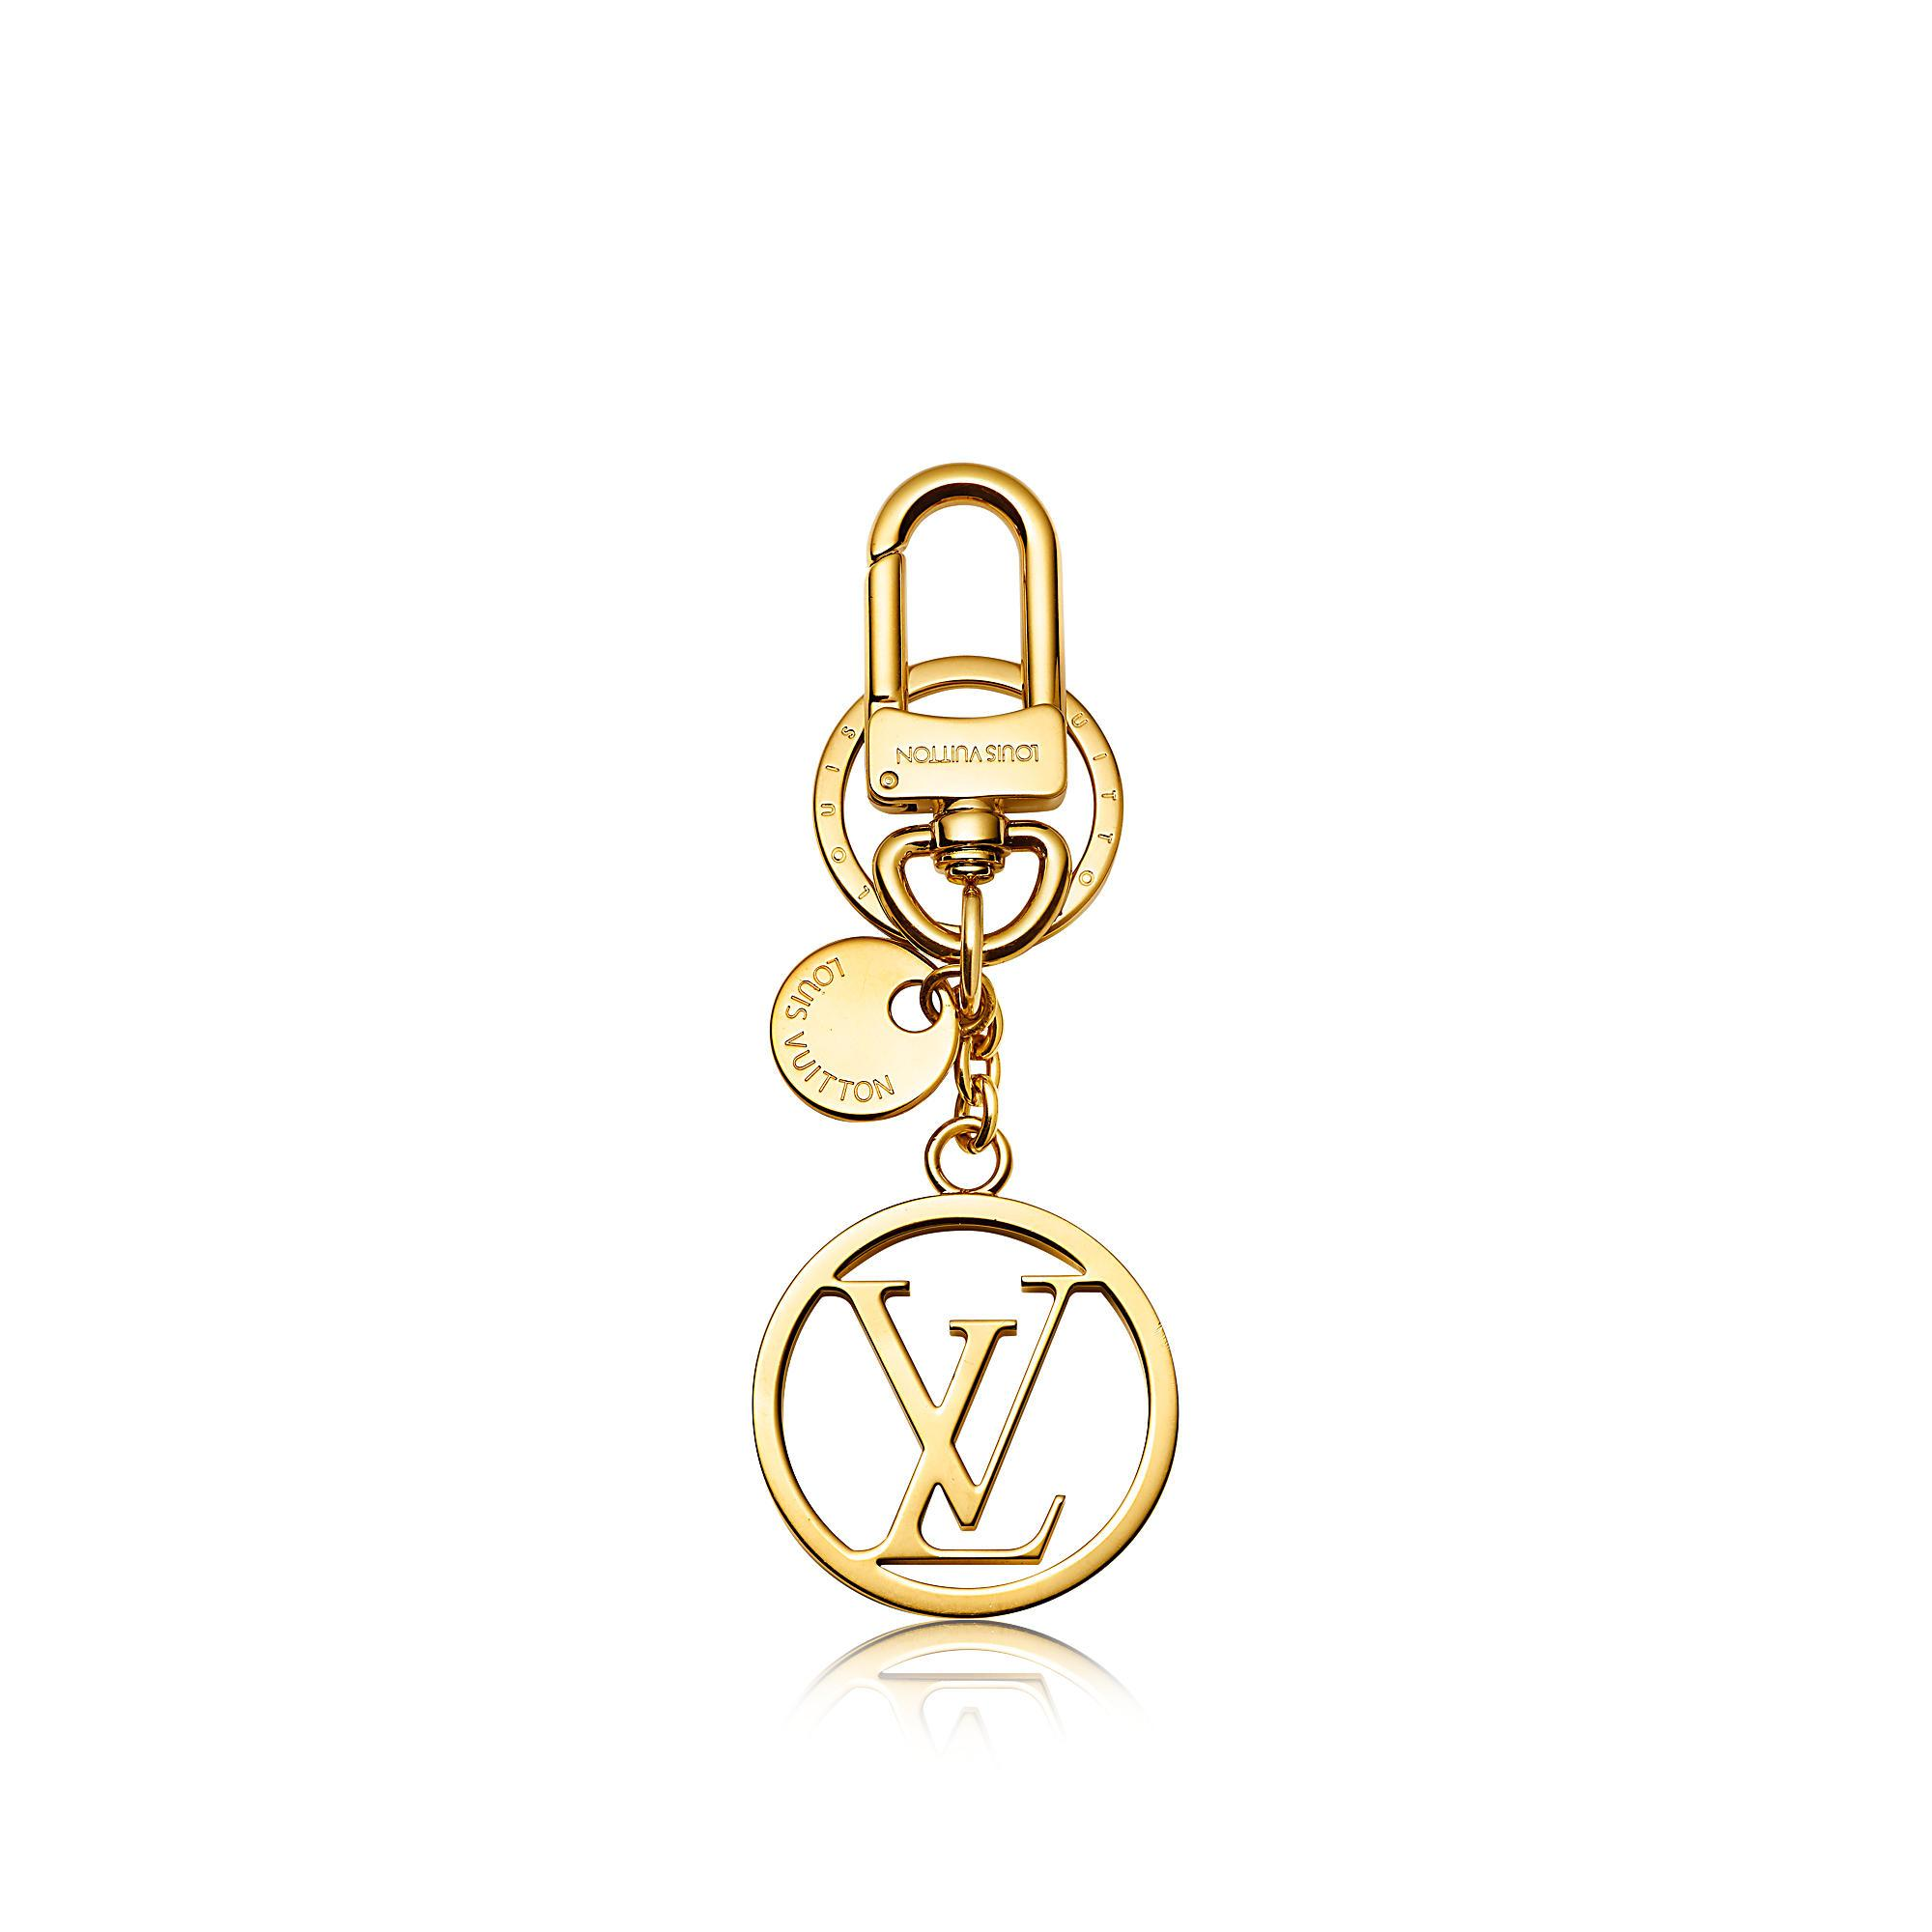LOUIS-VUITTON: (817, 1270, 1108, 1575)
